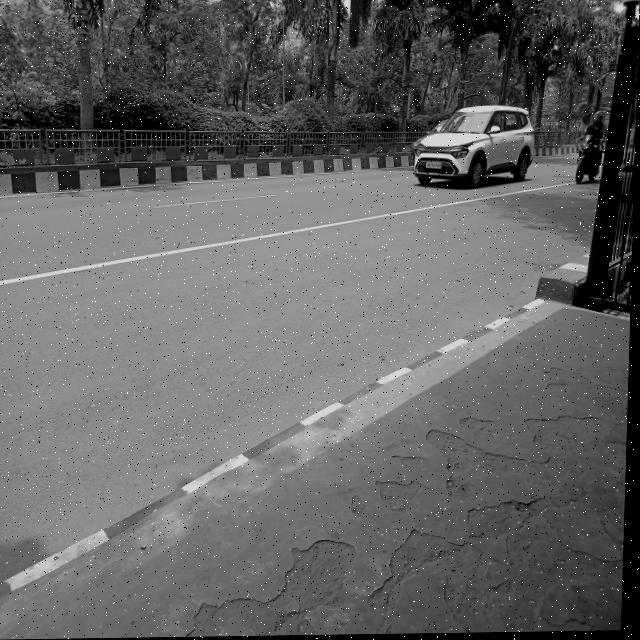bike: (575, 135, 602, 188)
car: (403, 92, 545, 209)
